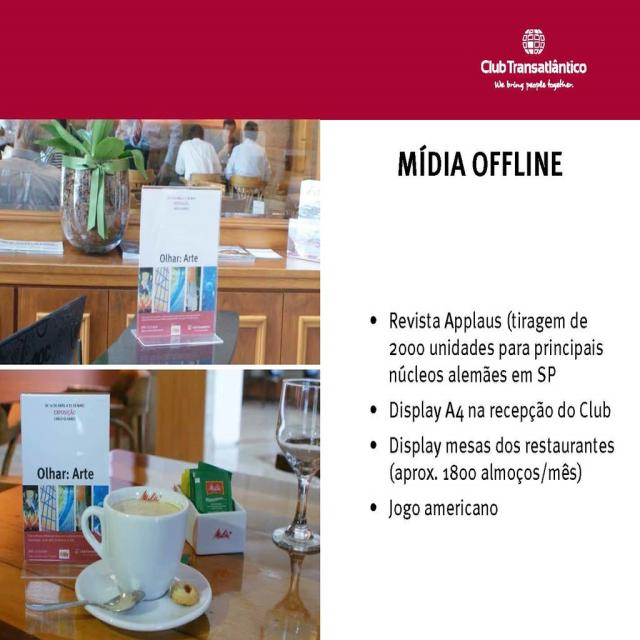Coffee: (117, 499, 177, 518)
Tea: (112, 497, 182, 517)
